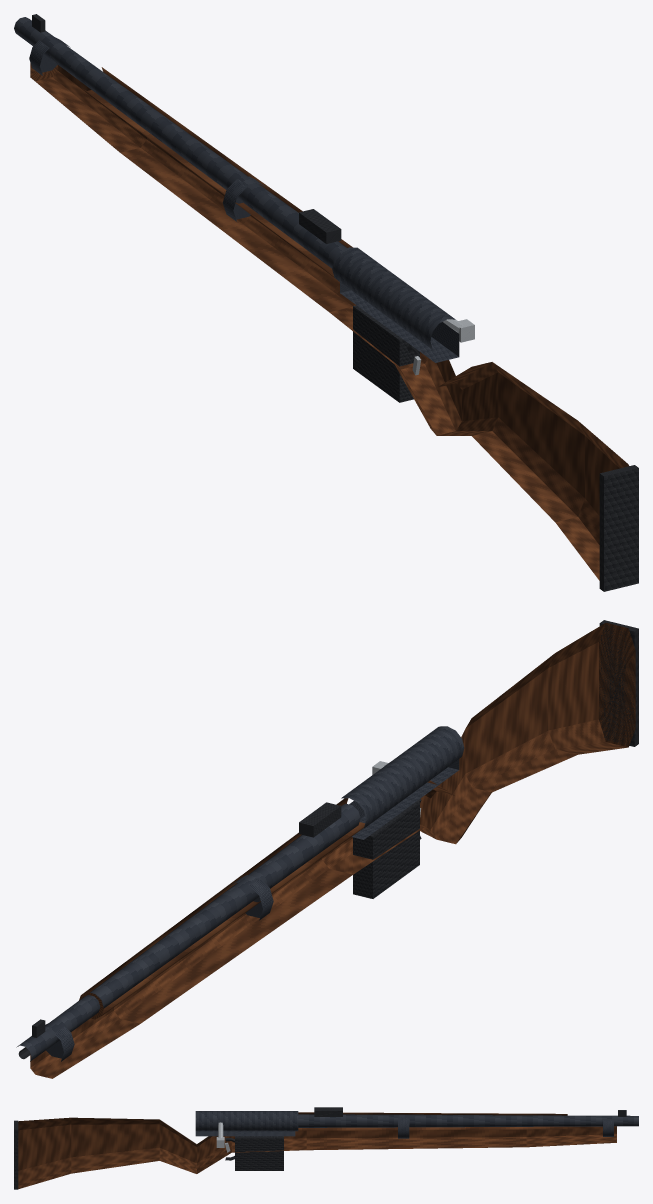
File: lee_enfield_no4.glb
The picture shows the model from 3 angles, top to bottom: view 1: azimuth 30°, elevation 25°; view 2: azimuth 150°, elevation 25°; view 3: azimuth 270°, elevation 25°; orthographic projection. The views are drawn at different scales.
Visible parts, largest first — view 1: WeaponMesh; view 2: WeaponMesh; view 3: WeaponMesh.
Part boxes in pixels (<box>): WeaponMesh: <box>14,14,638,591</box>; WeaponMesh: <box>16,620,638,1078</box>; WeaponMesh: <box>14,1107,638,1189</box>.
Size of the model in its own units: 0.0735 by 0.154 by 1.13.
Materials: 4 (4 with a texture image).
